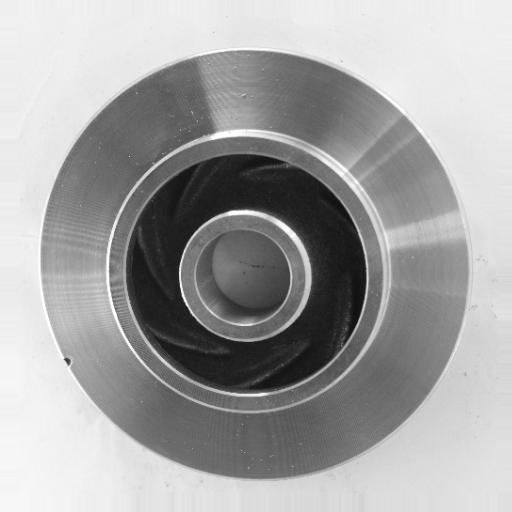crack: (48, 345, 92, 378)
unpolished_casting: (38, 49, 471, 480)
